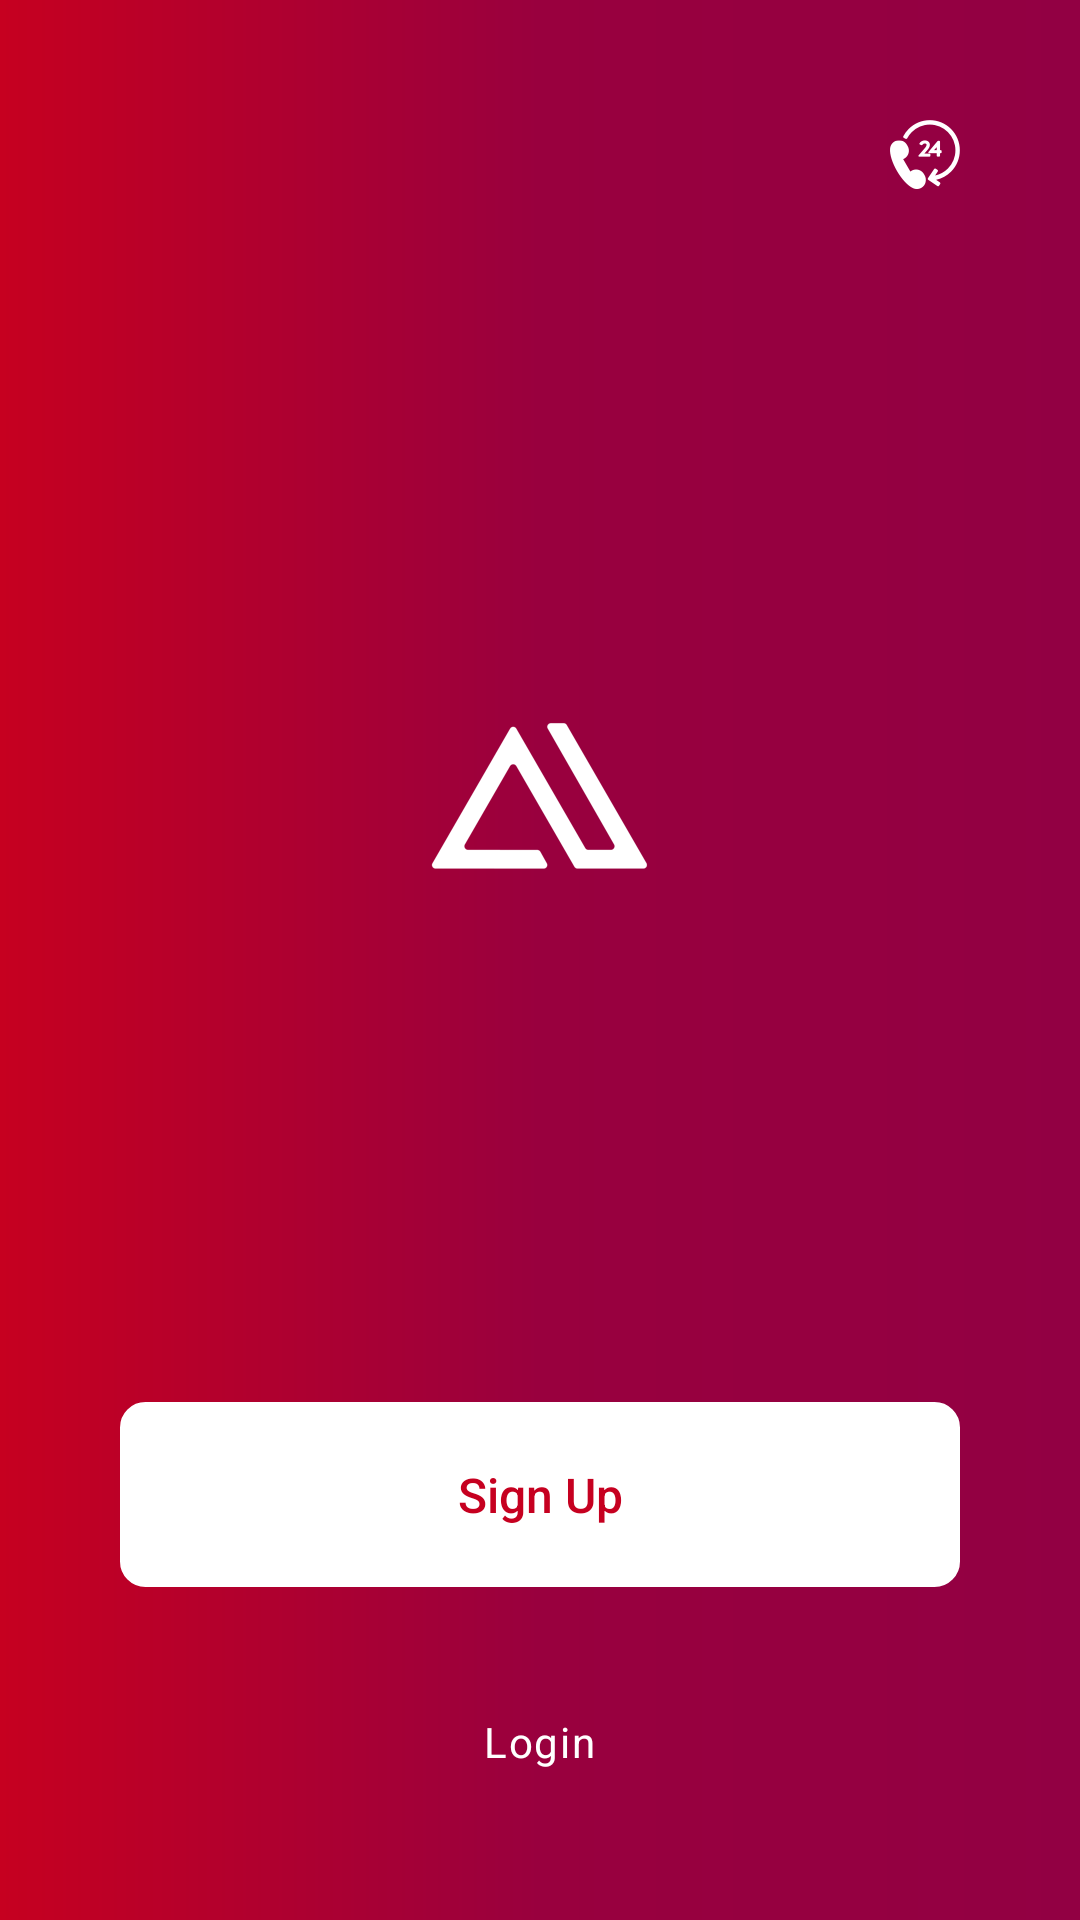

Screen size 1080px×1920px. Icon name, then its box in pixels as (x1, y1, x2, y2):
twenty four hour support: (890, 120, 960, 189)
